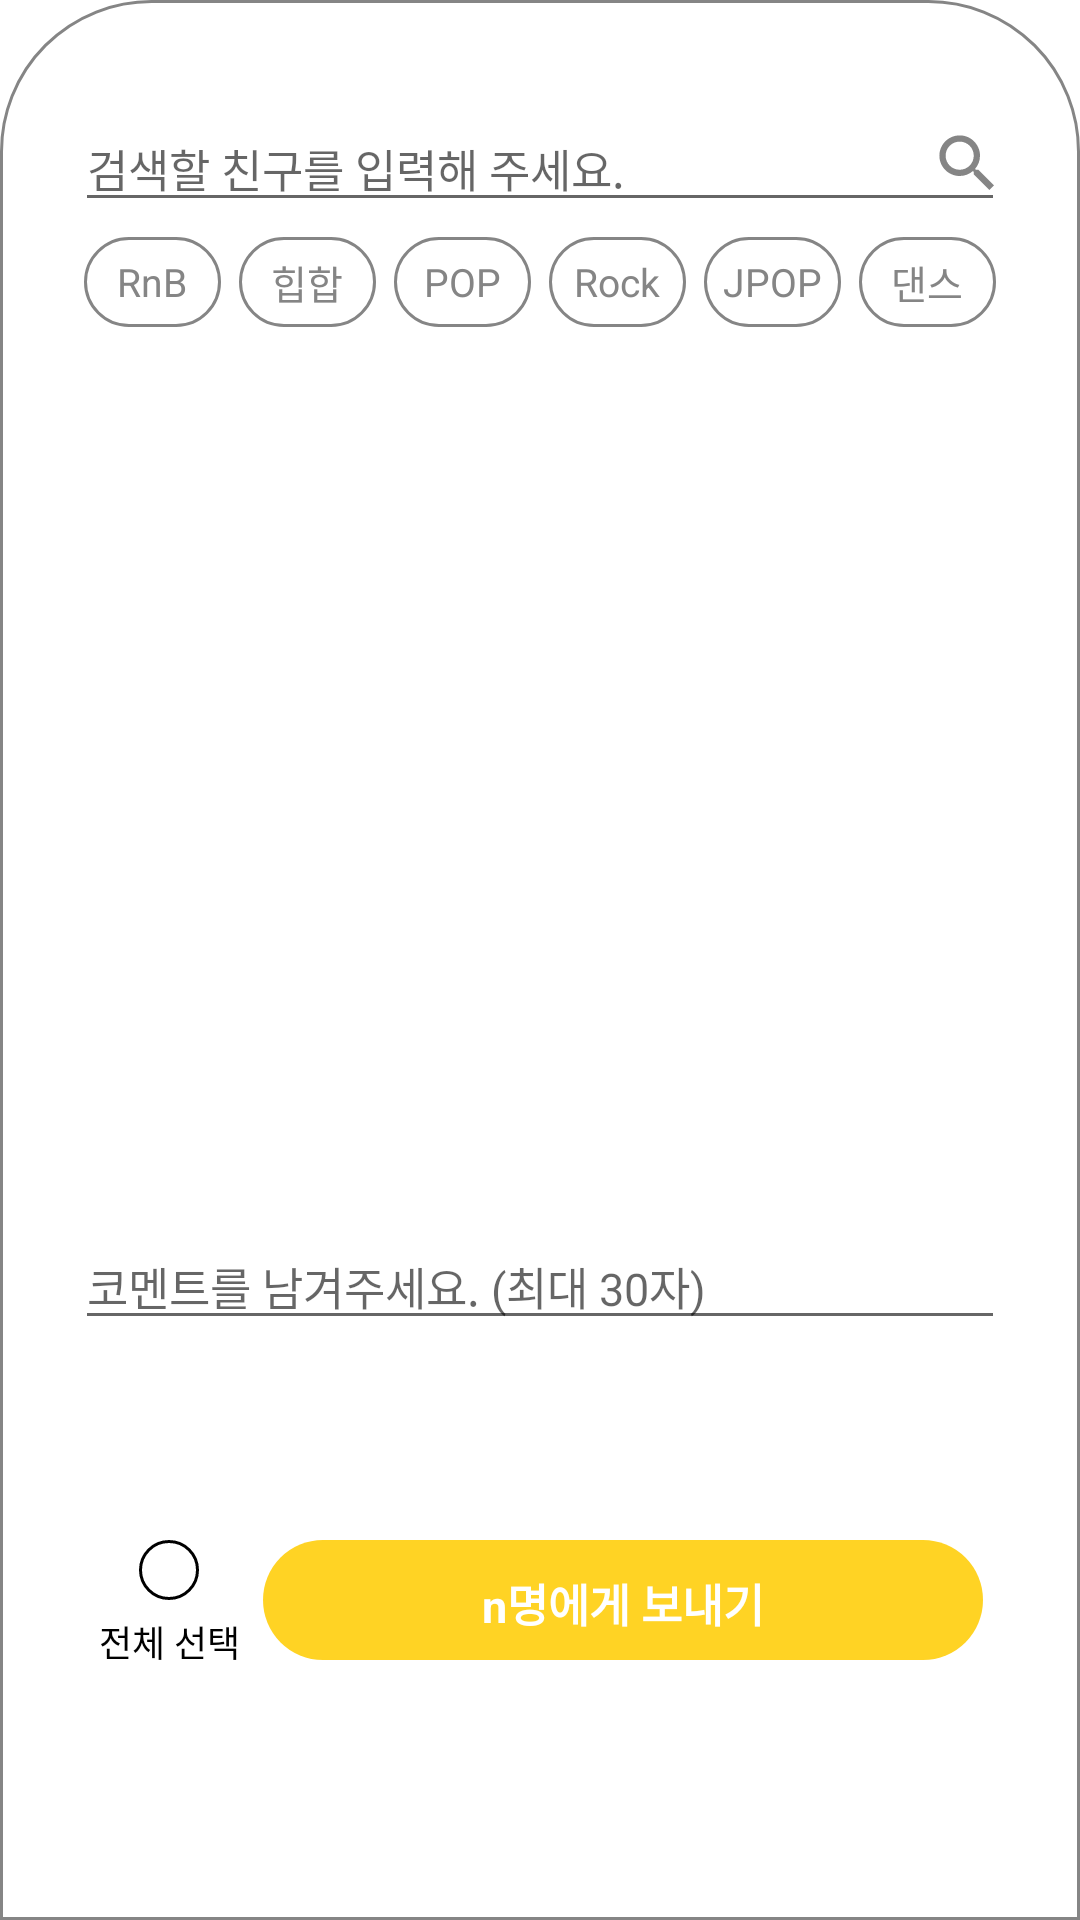

Icons on this 1080w x 1920h Android screen, each with its box as box(x1, y1, x2, y2):
all search: box(939, 135, 994, 190)
